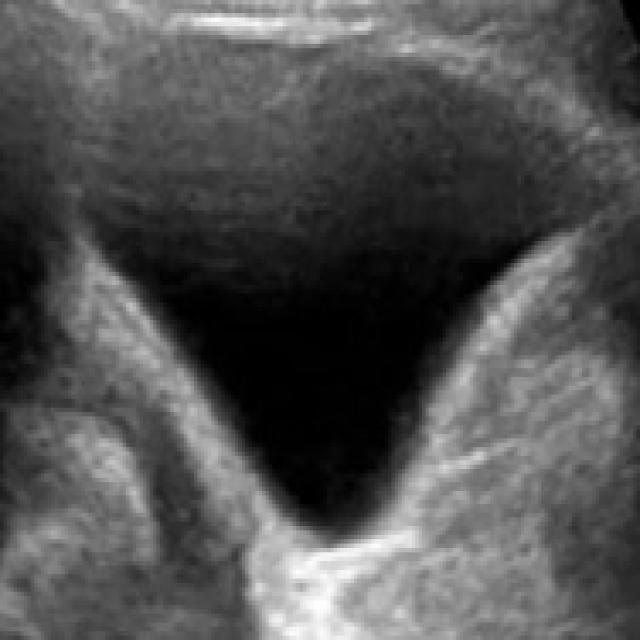bladder: (22, 10, 625, 604)
